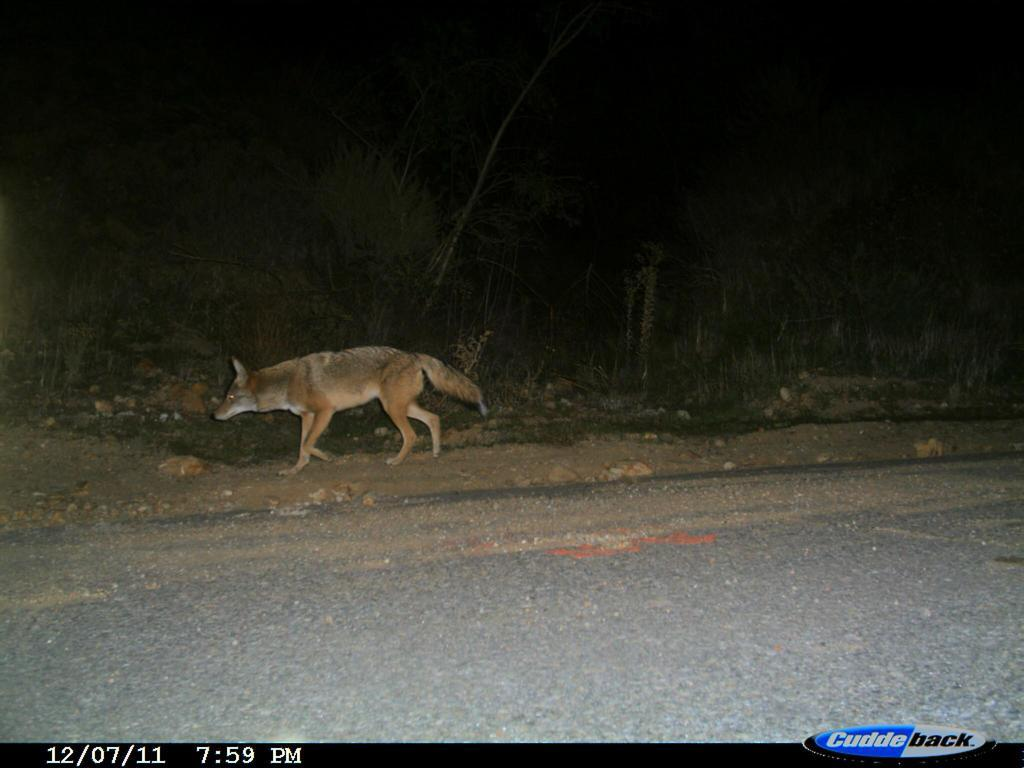coyote: (214, 340, 496, 479)
